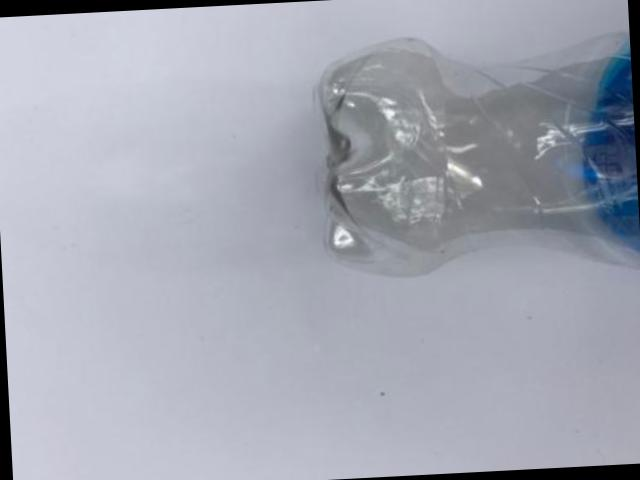plastic: (315, 35, 640, 277)
